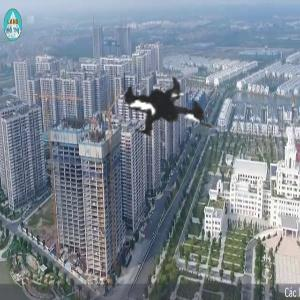drone: (47, 19, 286, 258)
